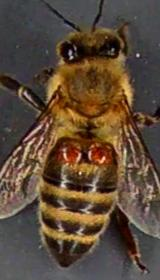varroa_mite: (85, 136, 118, 172), (48, 135, 84, 168)
